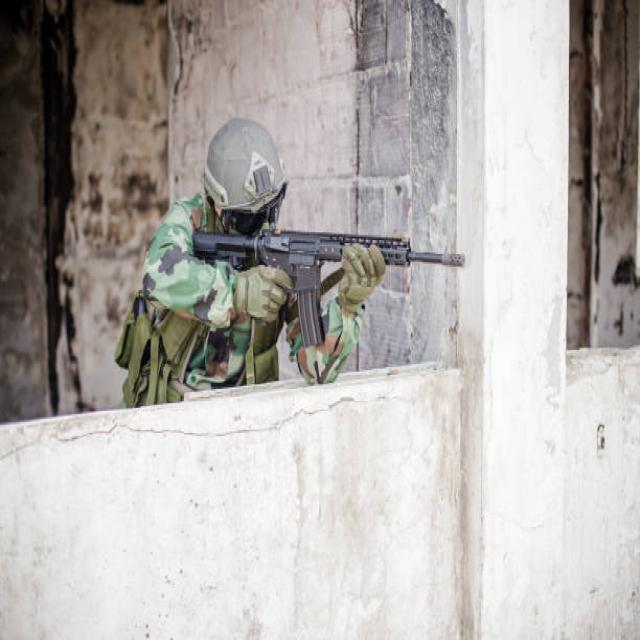soldier: (109, 114, 466, 401)
